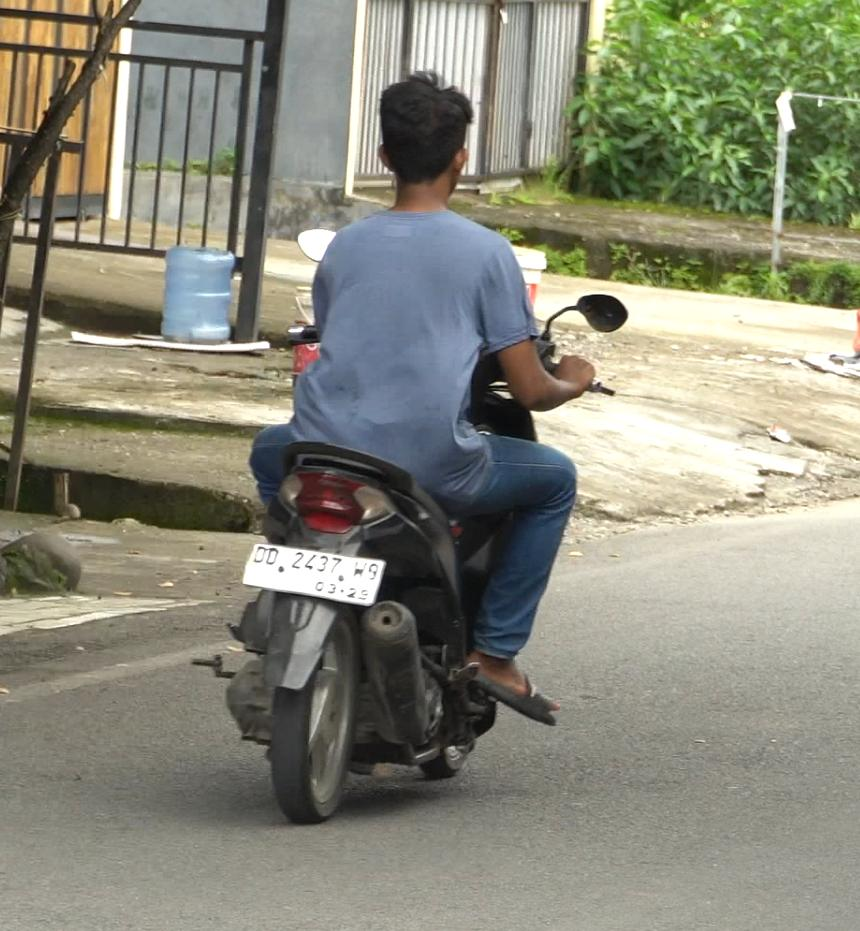number-plate: (237, 543, 386, 605)
